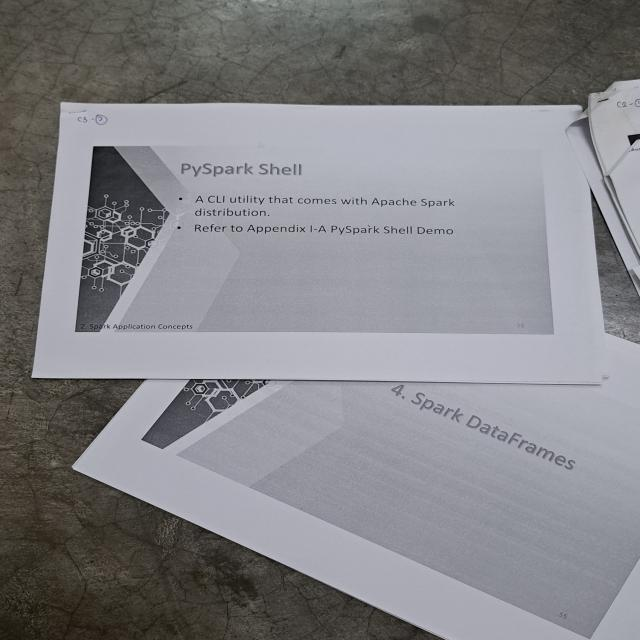paper: (31, 91, 640, 390), (67, 329, 640, 640), (583, 76, 640, 308)
